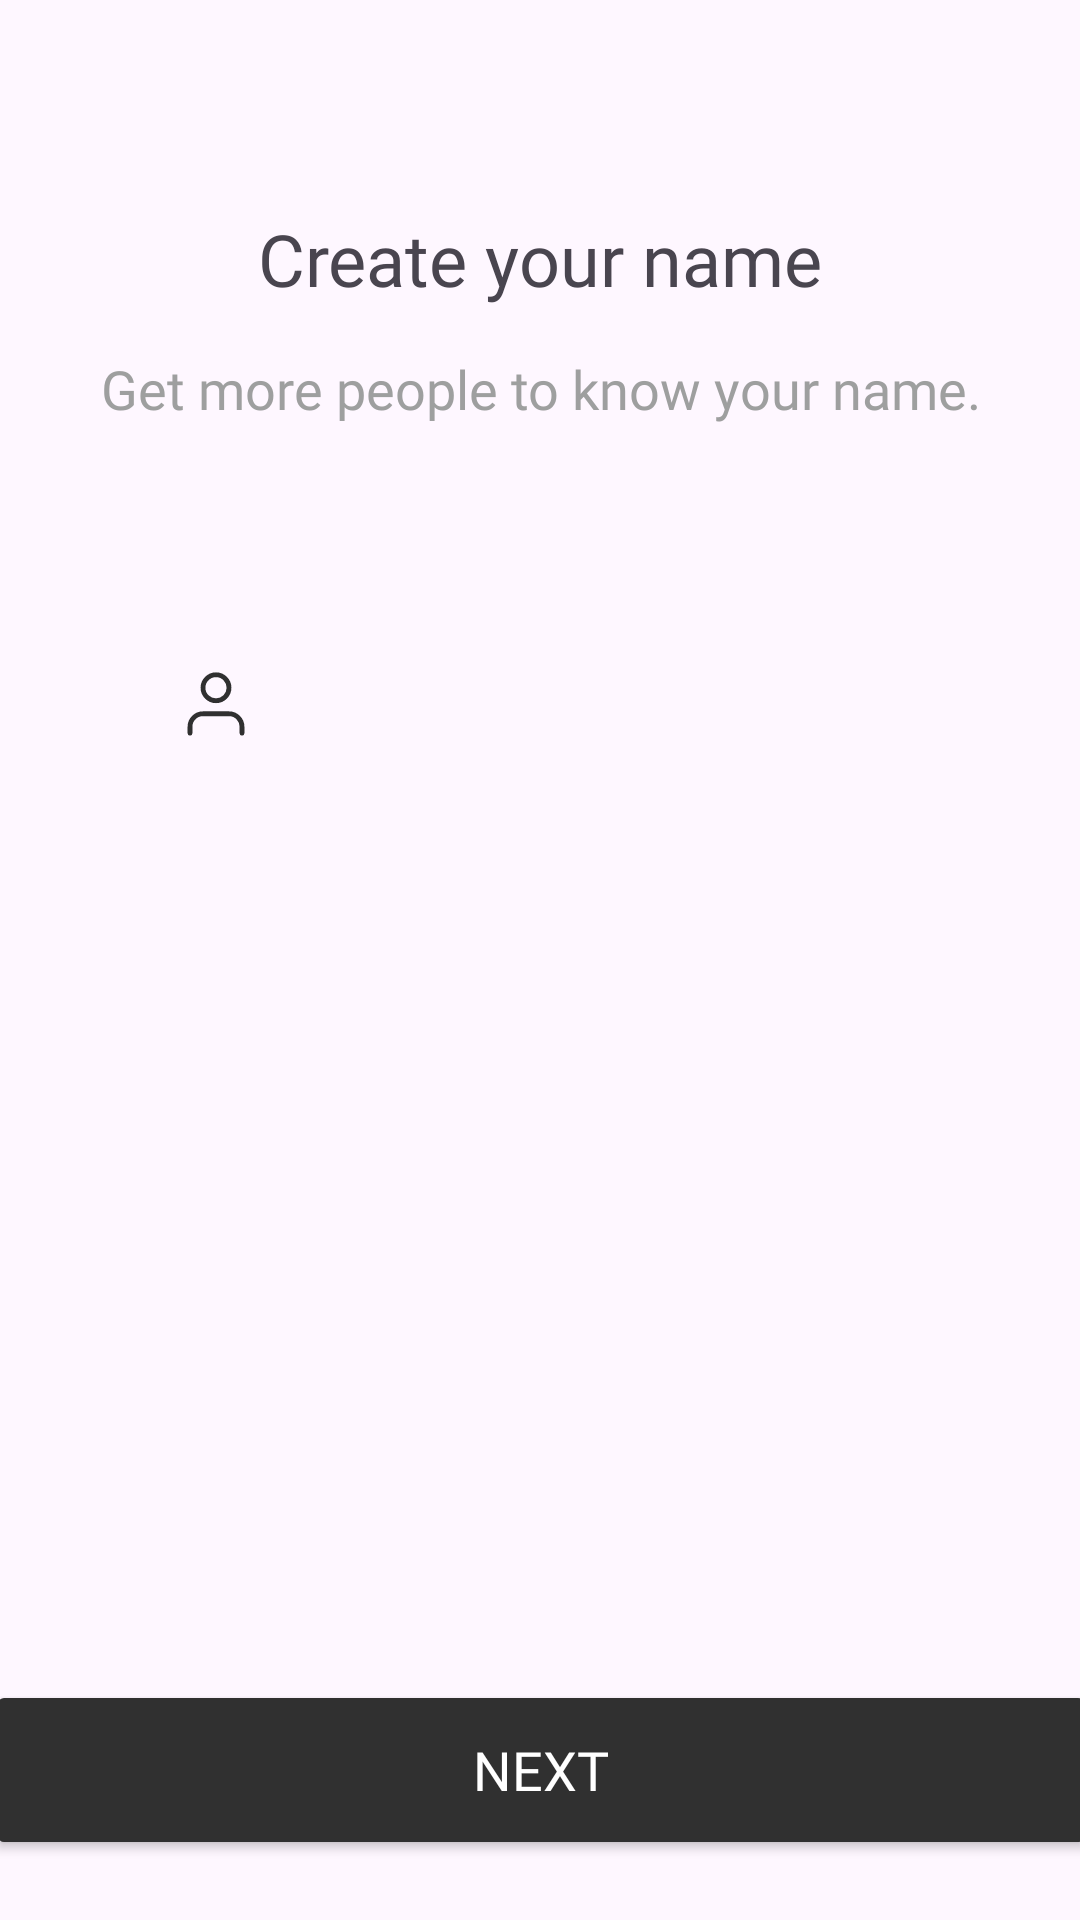

Named icons in this screenshot (1080×1920) and their centers, (x,y):
user input: (216,704)
